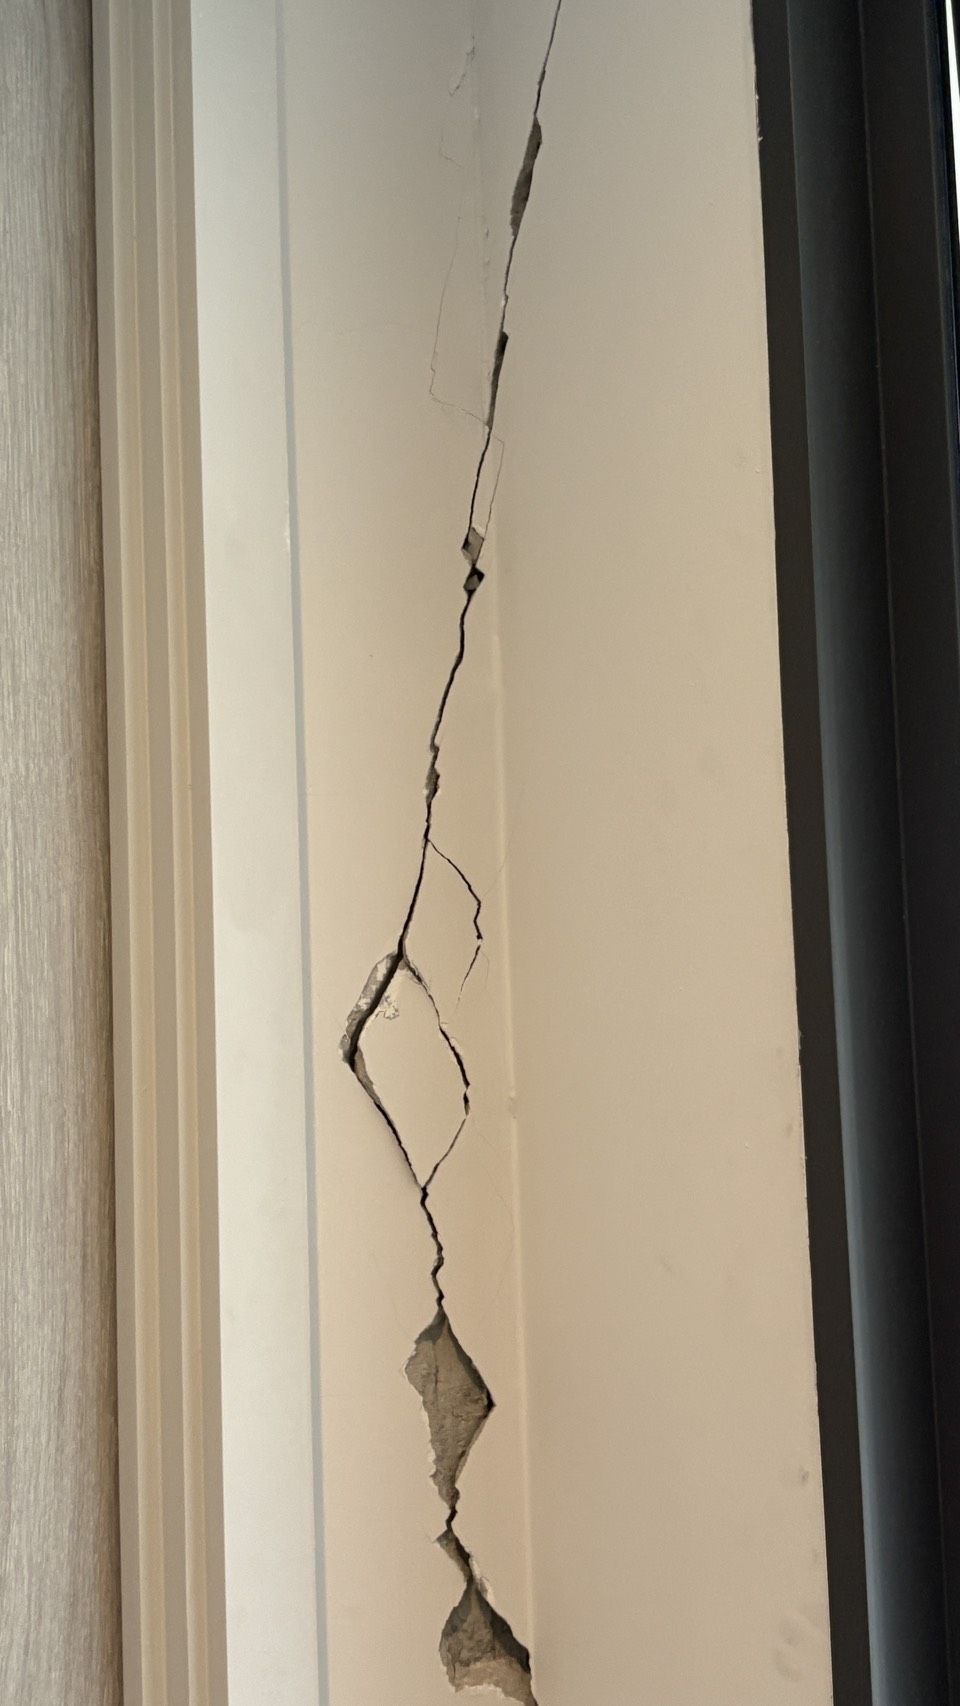High: (284, 7, 632, 1706)
